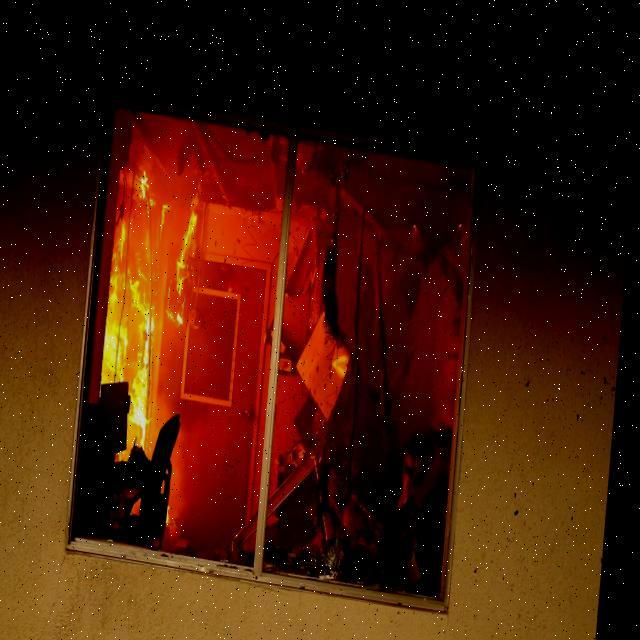Fire: (102, 171, 202, 474)
